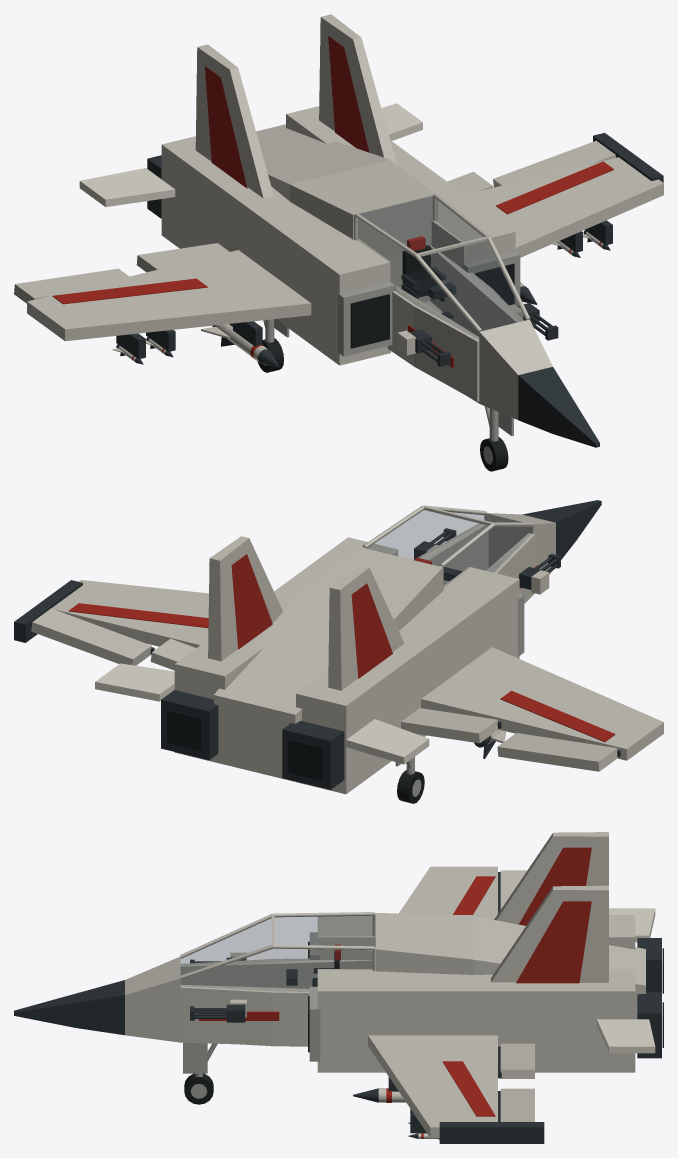
3 views of the same model, one above another, from view 1: azimuth 30°, elevation 25°; view 2: azimuth 150°, elevation 25°; view 3: azimuth 270°, elevation 25° (orthographic). The views are drawn at different scales.
Visible parts, largest first — view 1: jet-a-painted, jet-a-glazing, elevator-left-fleet-armor, aileron-right-painted, crew-chair-pilot-painted, aileron-left-painted, flap-left-painted, store-left-large-painted, elevator-right-fleet-armor, breakaway-1-painted, gear-wheel-nose-0-0-painted, machine-gun-fixed-pitch-left-painted; view 2: jet-a-painted, jet-a-glazing, aileron-right-painted, aileron-left-painted, flap-left-painted, elevator-left-fleet-armor, elevator-right-fleet-armor, breakaway-1-painted, flap-right-painted, gear-wheel-left-0-0-painted, machine-gun-fixed-pitch-left-painted; view 3: jet-a-painted, jet-a-glazing, breakaway-1-painted, elevator-right-fleet-armor, flap-right-painted, aileron-right-painted, landing-gear-nose-painted, elevator-left-fleet-armor, gear-wheel-nose-0-0-painted, aileron-left-painted, store-right-large-painted, machine-gun-fixed-pitch-right-painted.
Part boxes in pixels (x1,y1,x2,y2): jet-a-painted: (27, 14, 663, 447); jet-a-glazing: (358, 196, 525, 339); elevator-left-fleet-armor: (79, 168, 175, 207); aileron-right-painted: (493, 140, 617, 187); crew-chair-pilot-painted: (401, 236, 456, 318); aileron-left-painted: (14, 268, 128, 303); flap-left-painted: (136, 243, 229, 272); store-left-large-painted: (201, 323, 279, 367); elevator-right-fleet-armor: (381, 103, 422, 140); breakaway-1-painted: (593, 133, 663, 182); gear-wheel-nose-0-0-painted: (480, 437, 508, 471); machine-gun-fixed-pitch-left-painted: (397, 329, 431, 355); jet-a-painted: (51, 500, 663, 794); jet-a-glazing: (367, 509, 531, 586); aileron-right-painted: (31, 608, 154, 665); aileron-left-painted: (497, 733, 620, 771); flap-left-painted: (401, 708, 501, 743); elevator-left-fleet-armor: (346, 719, 429, 764); elevator-right-fleet-armor: (95, 663, 174, 701); breakaway-1-painted: (14, 580, 82, 642); flap-right-painted: (150, 638, 196, 670); gear-wheel-left-0-0-painted: (397, 770, 424, 803); machine-gun-fixed-pitch-left-painted: (519, 567, 549, 594); jet-a-painted: (14, 832, 663, 1137); jet-a-glazing: (181, 915, 373, 991); breakaway-1-painted: (439, 1122, 544, 1143); elevator-right-fleet-armor: (596, 1019, 655, 1053); flap-right-painted: (498, 1043, 534, 1078); aileron-right-painted: (498, 1088, 534, 1121); landing-gear-nose-painted: (183, 1042, 217, 1076); elevator-left-fleet-armor: (609, 908, 655, 942); gear-wheel-nose-0-0-painted: (184, 1073, 213, 1104); aileron-left-painted: (498, 870, 527, 913); store-right-large-painted: (353, 1088, 405, 1102); machine-gun-fixed-pitch-right-painted: (226, 999, 246, 1022).
Bounding box in the file's own units: 70.47 × 30.13 × 73.68.
